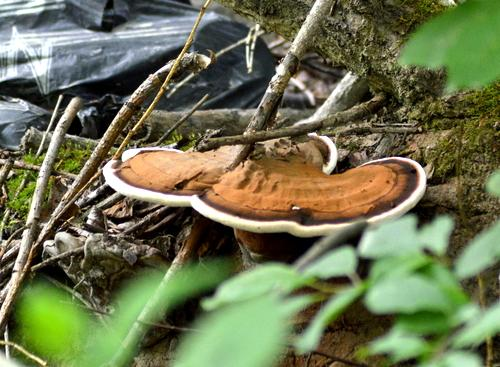Ganoderma - Fruit Body: (102, 134, 428, 235)
